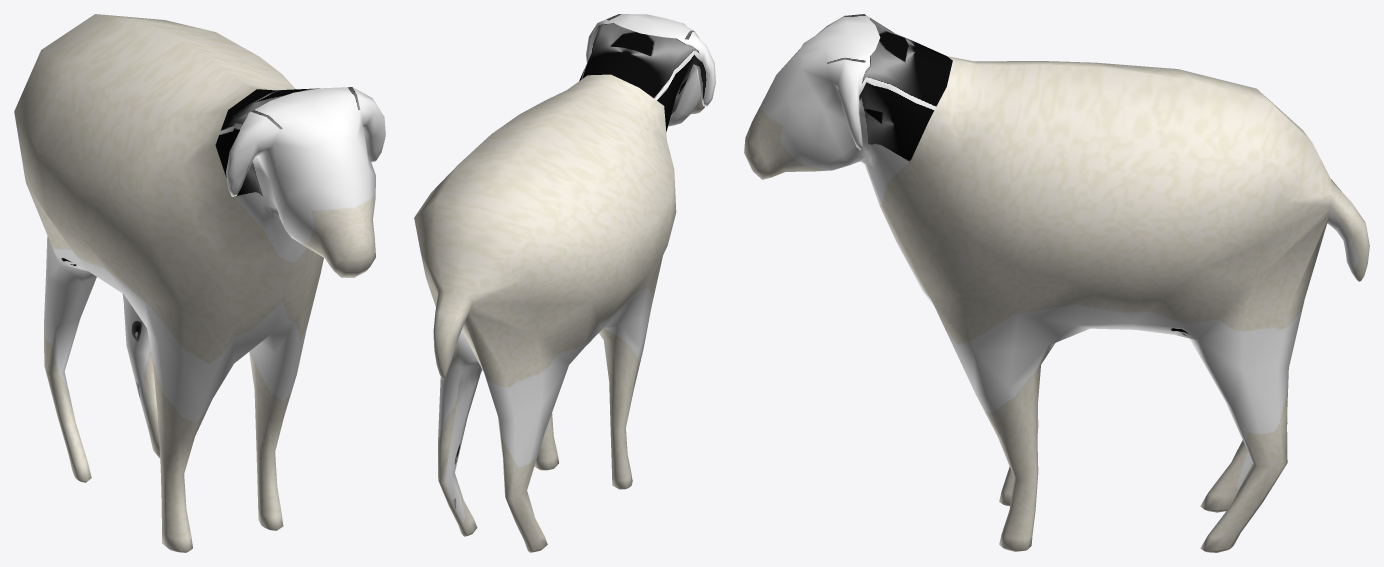
File: lamb.gltf
The picture shows the model from 3 angles, left to right: view 1: azimuth 30°, elevation 25°; view 2: azimuth 150°, elevation 25°; view 3: azimuth 270°, elevation 25°; orthographic projection. The views are drawn at different scales.
Bounding box in the file's own units: 1.08 × 2.14 × 2.44.
Materials: 1 (1 with a texture image).
